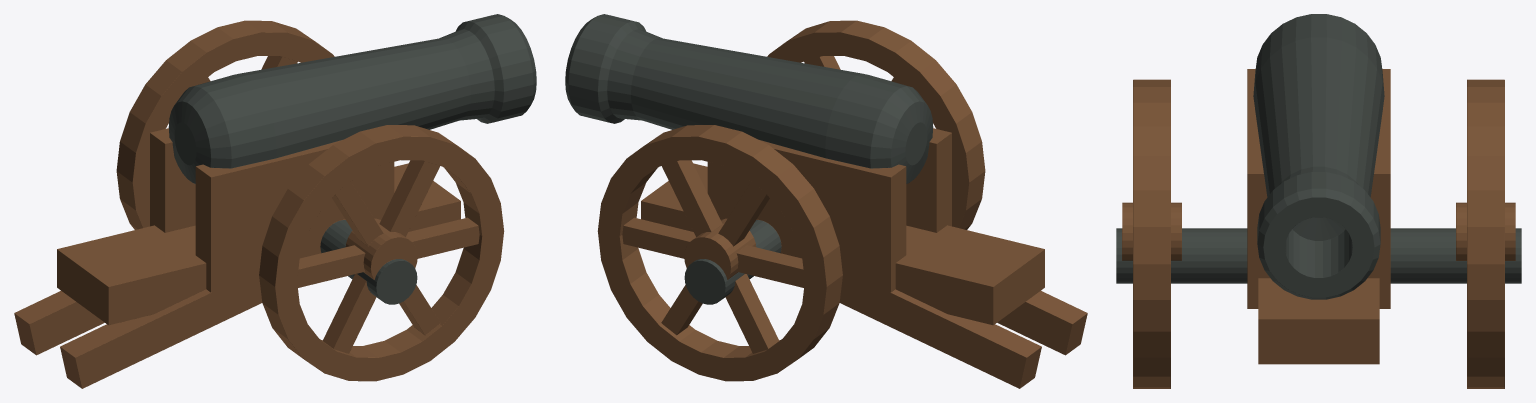
Rendered from NEW_RECOVERY_093_LOD1.glb.
The picture shows the model from 3 angles, left to right: view 1: azimuth 30°, elevation 25°; view 2: azimuth 150°, elevation 25°; view 3: azimuth 270°, elevation 25°; orthographic projection. The views are drawn at different scales.
Visible parts, largest first — view 1: NEW_RECOVERY_093_Static_cannon; view 2: NEW_RECOVERY_093_Static_cannon; view 3: NEW_RECOVERY_093_Static_cannon.
Boxes of the visible parts, <box> form: NEW_RECOVERY_093_Static_cannon: <box>14,14,536,388</box>; NEW_RECOVERY_093_Static_cannon: <box>565,14,1087,388</box>; NEW_RECOVERY_093_Static_cannon: <box>1116,14,1521,388</box>.
Bounding box in the file's own units: 3.19 × 1.67 × 2.04.
